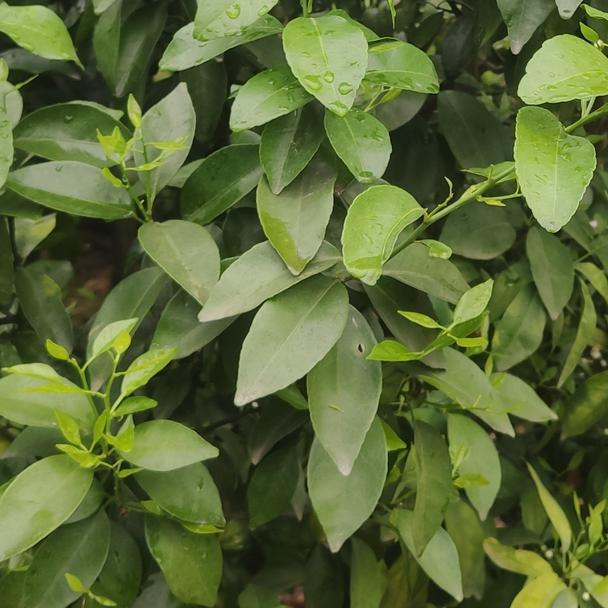shoot: (79, 334, 172, 453), (27, 328, 112, 450), (99, 111, 192, 204)
